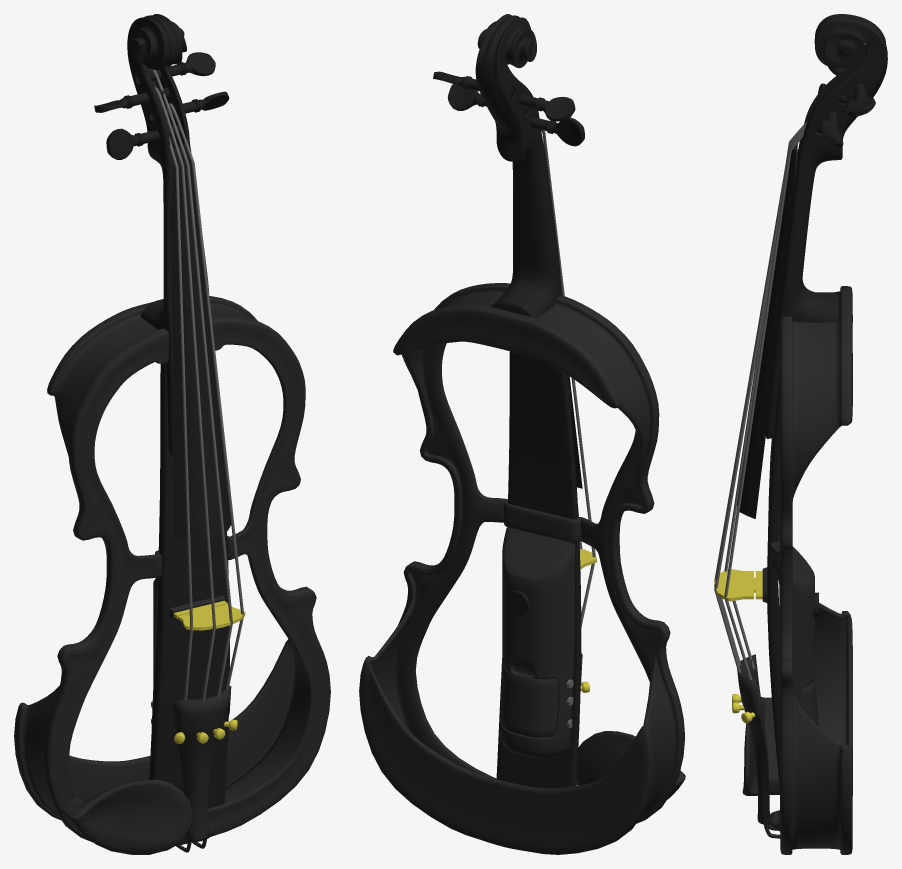
Rendered from violin-electric.glb.
3 renders of one model, left to right at view 1: azimuth 30°, elevation 25°; view 2: azimuth 150°, elevation 25°; view 3: azimuth 270°, elevation 25°, orthographic. The views are drawn at different scales.
Parts seen in each view (by area): view 1: part0, part1, part20, part17, part7, part11, part12, part8, part19; view 2: part0, part2, part1, part7, part8, part11, part17; view 3: part0, part7, part17, part20, part2, part1, part12, part11, part8, part19.
Part boxes in pixels (<box>): part0: <box>14,296,330,845</box>; part1: <box>149,363,229,808</box>; part20: <box>171,161,231,540</box>; part17: <box>149,68,244,700</box>; part7: <box>127,14,212,455</box>; part11: <box>60,779,193,854</box>; part12: <box>172,686,231,842</box>; part8: <box>94,52,229,159</box>; part19: <box>173,600,245,630</box>; part0: <box>359,283,684,854</box>; part2: <box>500,527,574,757</box>; part1: <box>496,351,581,788</box>; part7: <box>475,14,571,412</box>; part8: <box>433,71,584,146</box>; part11: <box>576,731,685,799</box>; part17: <box>541,130,595,627</box>; part0: <box>769,286,852,854</box>; part7: <box>766,14,887,438</box>; part17: <box>714,121,807,679</box>; part20: <box>737,144,797,518</box>; part2: <box>779,546,818,726</box>; part1: <box>767,379,779,788</box>; part12: <box>737,654,769,825</box>; part11: <box>742,697,779,795</box>; part8: <box>816,66,875,147</box>; part19: <box>714,569,762,601</box>.
Bounding box in the file's own units: 8.82 × 24 × 4.61.
